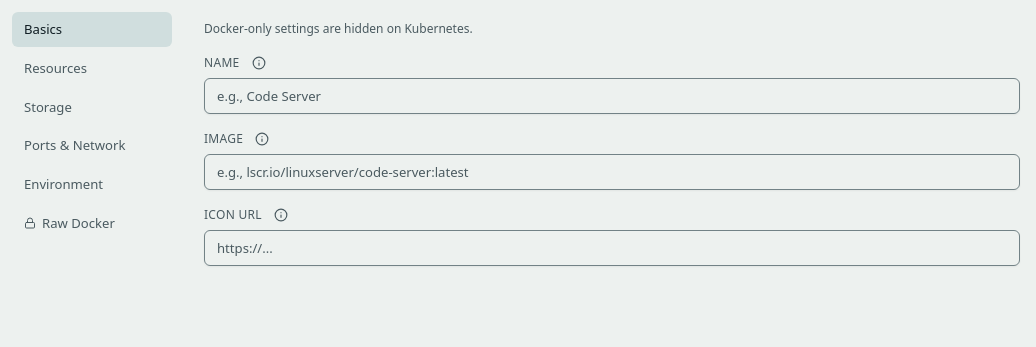
Test: TemplateBuilder on Kubernetes › hides Security section and Docker-only fields
Expected: the text "Docker-only settings are hidden on Kubernetes." is shown, [204,20,473,37]
Step 1. Click the button "Resources" → (92, 68), box [12,51,172,86]
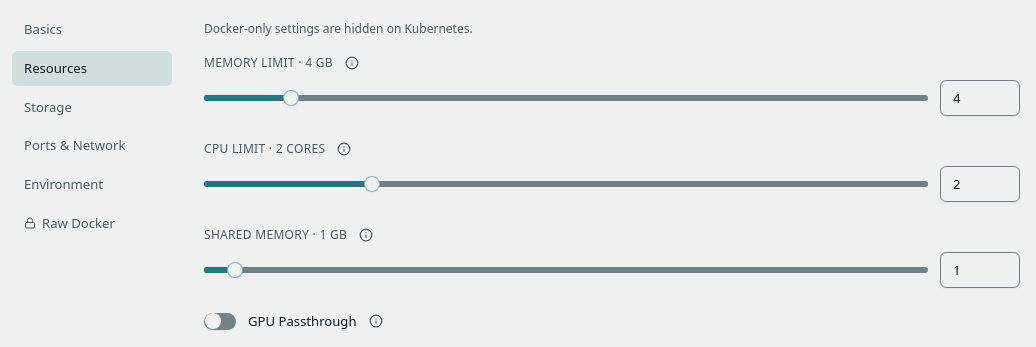
Result: the text "Memory Limit · 4 GB" is shown at [204,54,359,71]
Step 2. Click the button "Raw Docker" → (92, 223), box [12,206,172,241]
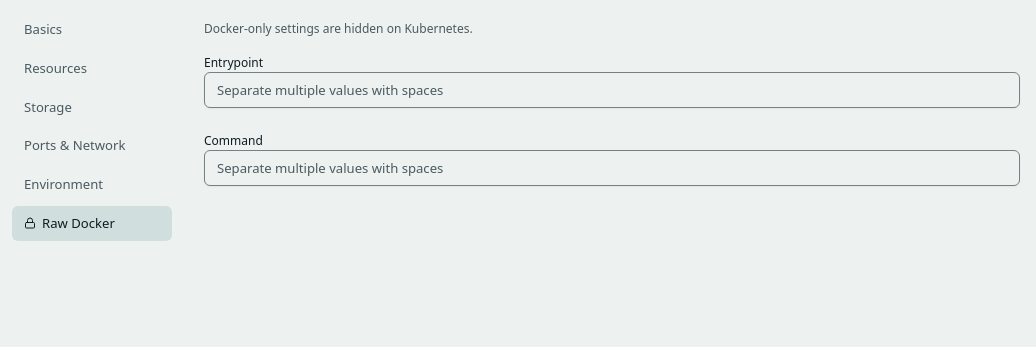
Result: the text "Entrypoint" is shown at [204,54,263,71]
